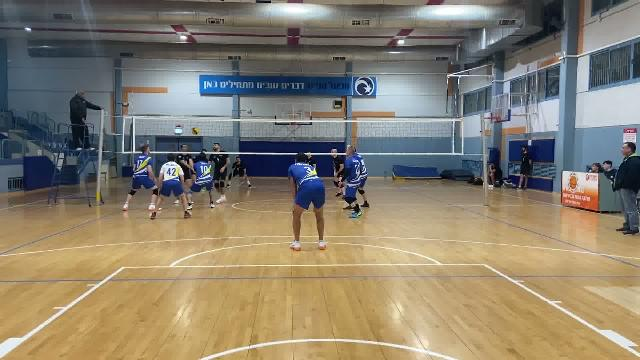ball: (189, 125, 204, 138)
